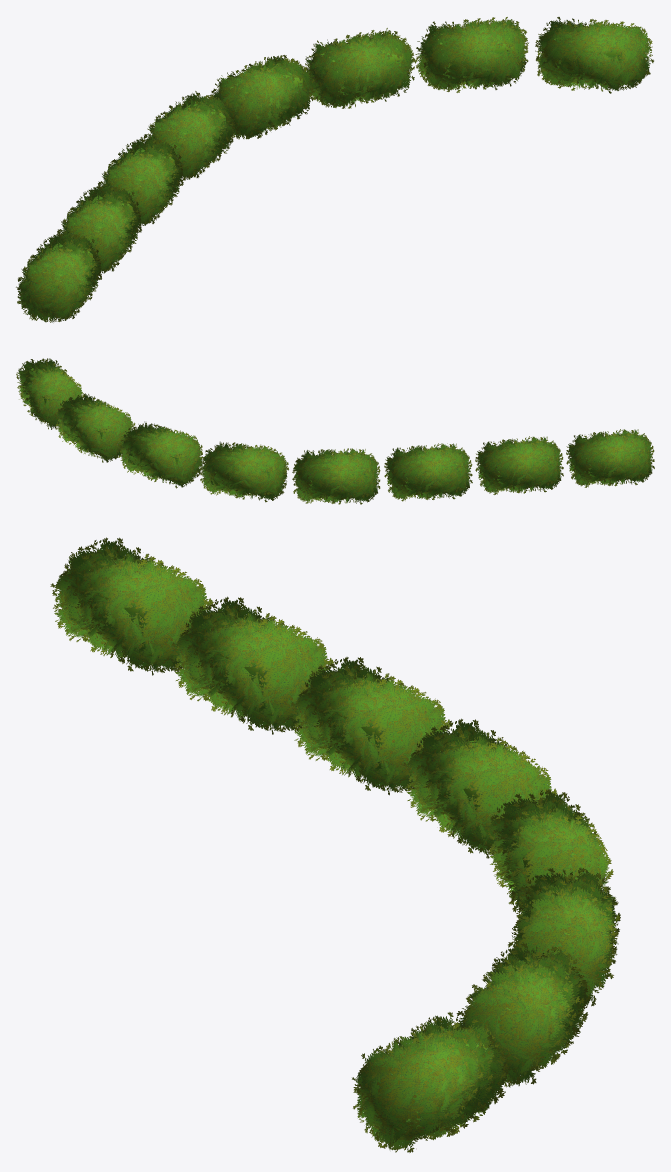
The model's file is SM_Bush06_Splines_26.fbx.
3 views of the same model, one above another, from view 1: azimuth 30°, elevation 25°; view 2: azimuth 150°, elevation 25°; view 3: azimuth 270°, elevation 25° (orthographic). The views are drawn at different scales.
Visible parts, largest first — view 1: SM_Bush06_Splines_26_LOD0; view 2: SM_Bush06_Splines_26_LOD0; view 3: SM_Bush06_Splines_26_LOD0.
Part boxes in pixels (x1,y1,x2,y2): SM_Bush06_Splines_26_LOD0: [16, 17, 653, 322]; SM_Bush06_Splines_26_LOD0: [16, 358, 654, 504]; SM_Bush06_Splines_26_LOD0: [50, 537, 620, 1152].
Bounding box in the file's own units: 1866 × 827 × 166.
